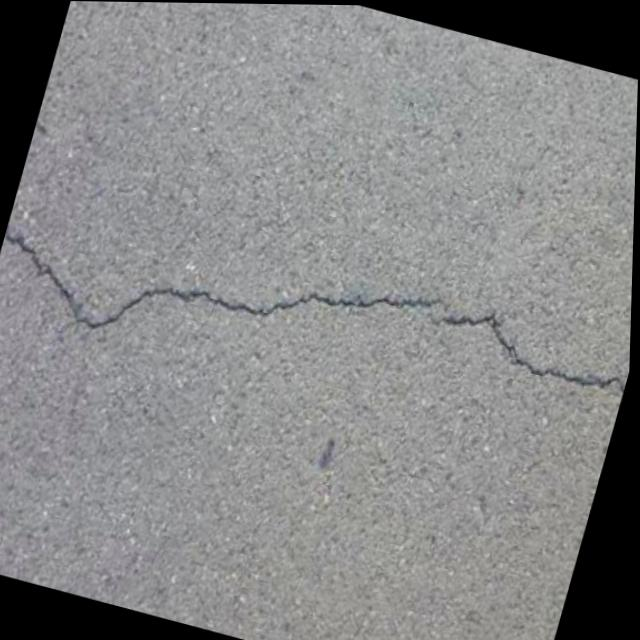Crack: (0, 151, 636, 493)
